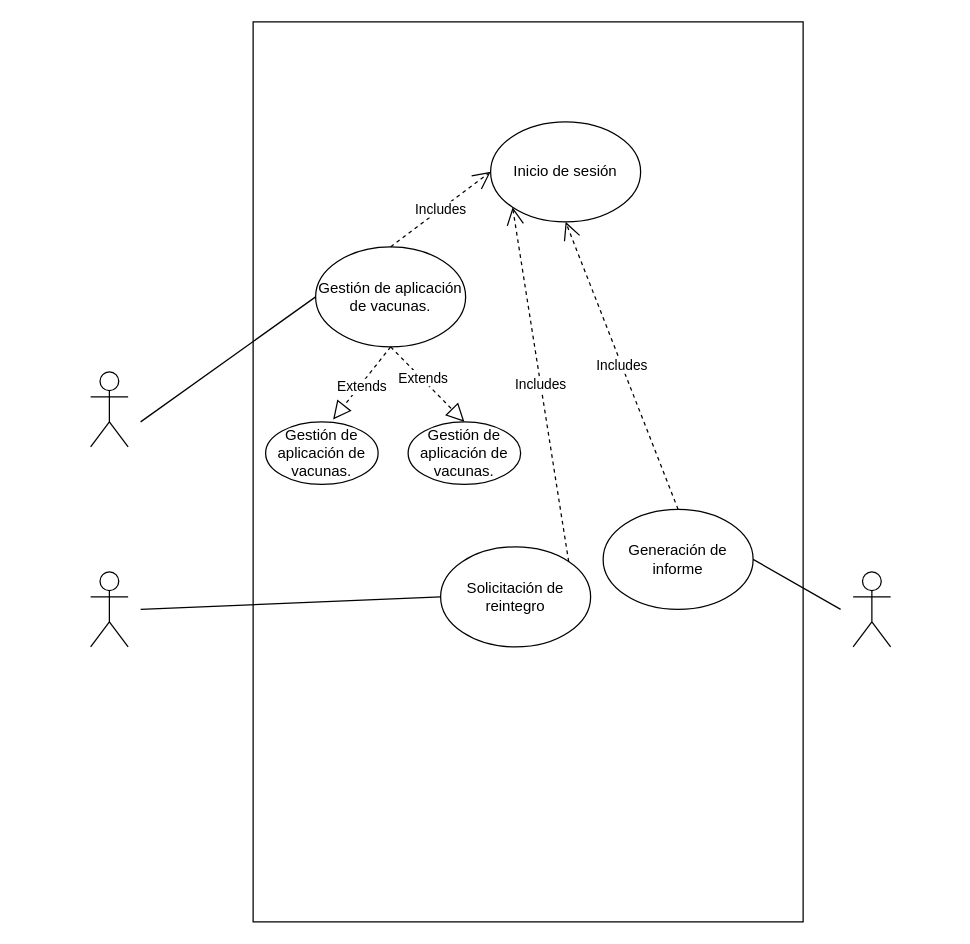
The diagram is 970 pixels wide and 944 high, and some of its shapes have lost their labels. The shapes that lost their labels are listed below. From the top down, each one's centre as x and y in pixels, then its label:
(x=108, y=409): Secretaría
(x=108, y=609): Supervisora administrativa
(x=871, y=609): Gerente del laboratorio
